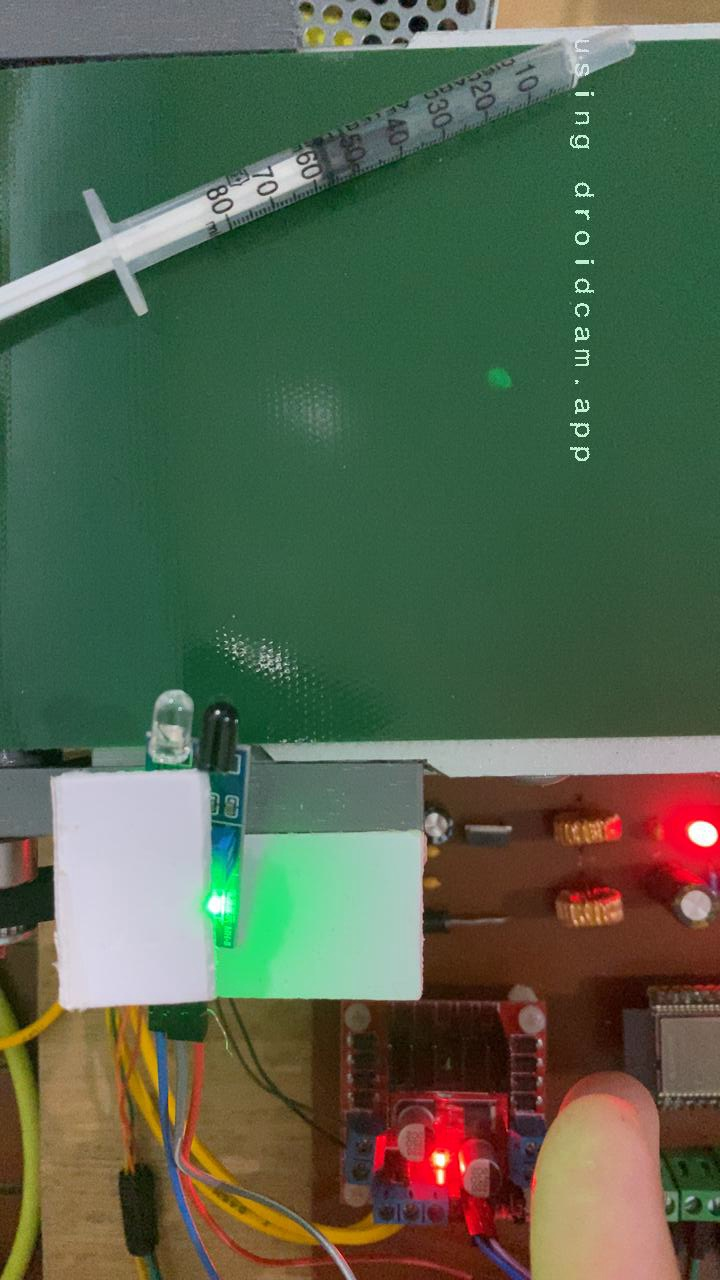syringe: (0, 116, 415, 328)
